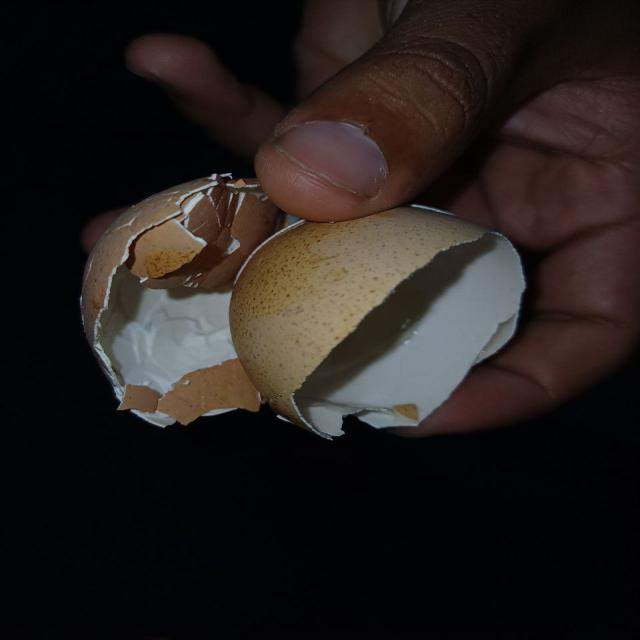organic: (79, 219, 528, 443)
